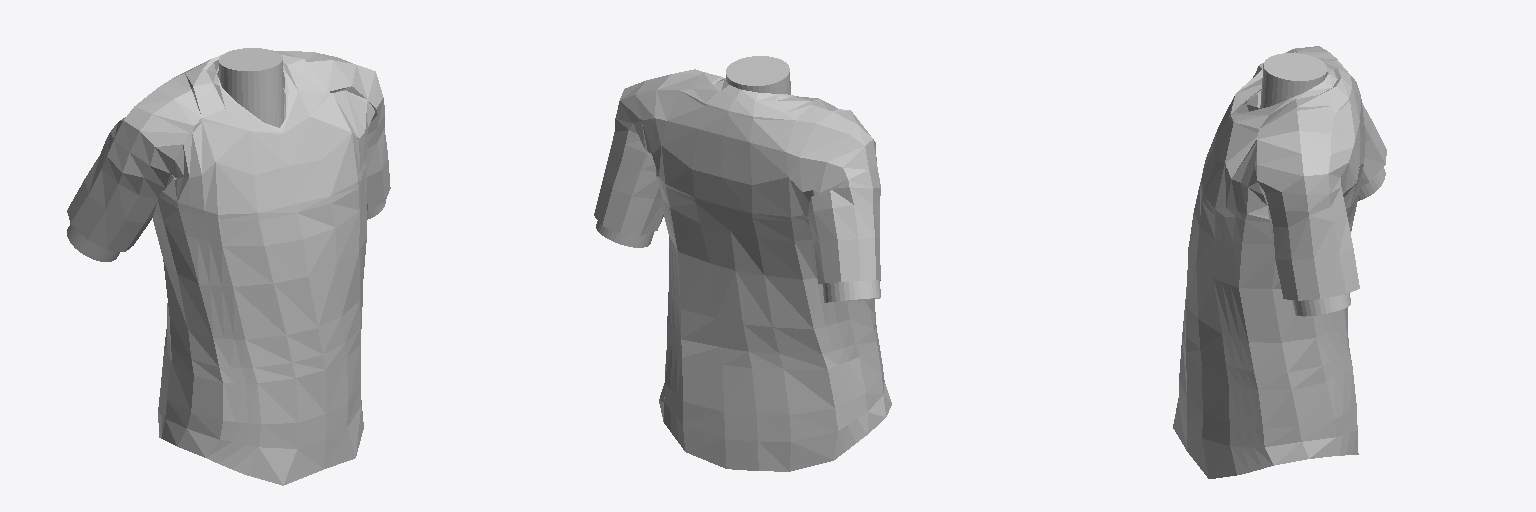
Rendered from naga.obj.
3 views of the same model, side by side, from view 1: azimuth 30°, elevation 25°; view 2: azimuth 150°, elevation 25°; view 3: azimuth 270°, elevation 25° (orthographic).
Parts seen in each view (by area): view 1: male01_mesh1_002_mesh1_geometry_male_02_1noCullingID_male_02_1no, group3_group2_pasted__pCylinder1, group3_group2_pCylinder1; view 2: male01_mesh1_002_mesh1_geometry_male_02_1noCullingID_male_02_1no, group3_group2_pasted__pCylinder1, group3_group2_pCylinder1, group3_group2_pasted__pasted__pCylinder1; view 3: male01_mesh1_002_mesh1_geometry_male_02_1noCullingID_male_02_1no, group3_group2_pasted__pCylinder1, group3_group2_pasted__pasted__pCylinder1.
Boxes of the visible parts, <box> form: male01_mesh1_002_mesh1_geometry_male_02_1noCullingID_male_02_1no: <box>67,50,390,485</box>; group3_group2_pasted__pCylinder1: <box>219,48,283,127</box>; group3_group2_pCylinder1: <box>67,224,119,261</box>; male01_mesh1_002_mesh1_geometry_male_02_1noCullingID_male_02_1no: <box>594,69,891,471</box>; group3_group2_pasted__pCylinder1: <box>726,56,790,94</box>; group3_group2_pCylinder1: <box>822,280,880,302</box>; group3_group2_pasted__pasted__pCylinder1: <box>596,221,653,247</box>; male01_mesh1_002_mesh1_geometry_male_02_1noCullingID_male_02_1no: <box>1173,46,1386,478</box>; group3_group2_pasted__pCylinder1: <box>1260,53,1326,108</box>; group3_group2_pasted__pasted__pCylinder1: <box>1292,293,1350,316</box>.
Bounding box in the file's own units: 29.48 × 36.63 × 18.51.